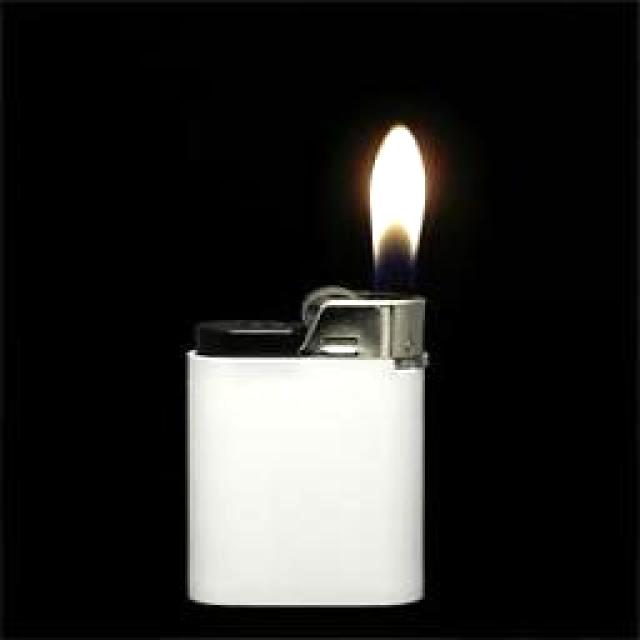fire: (370, 124, 428, 266)
